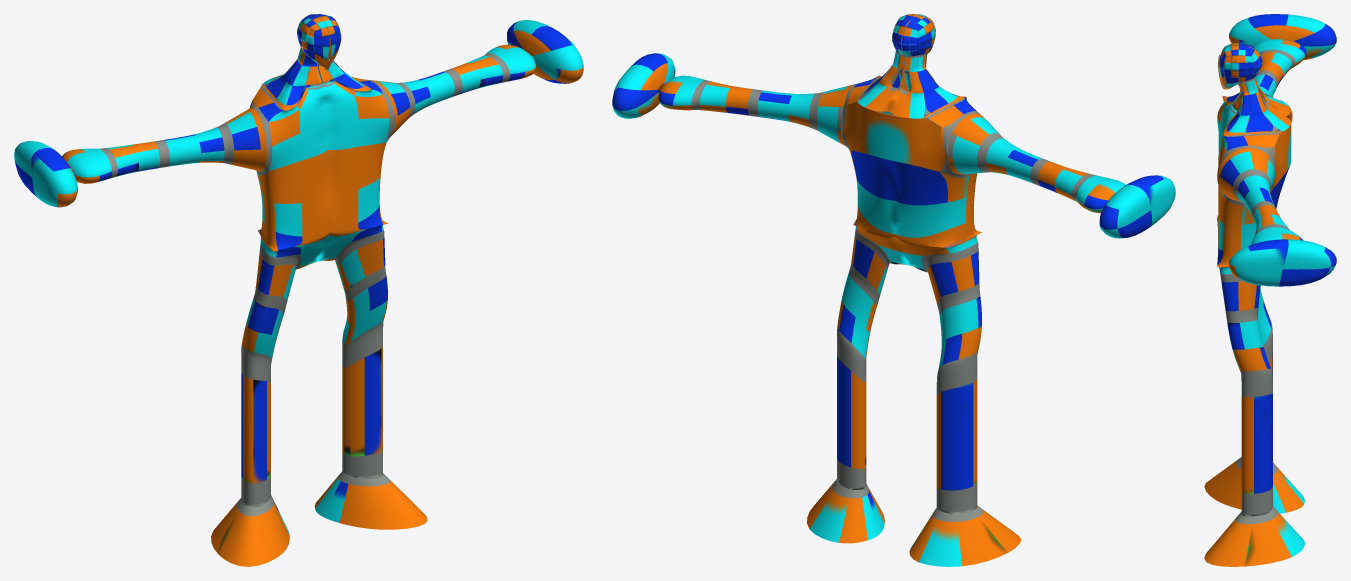
Rendered from albertTestMesh.obj.
The picture shows the model from 3 angles, left to right: view 1: azimuth 30°, elevation 25°; view 2: azimuth 150°, elevation 25°; view 3: azimuth 270°, elevation 25°; orthographic projection. The views are drawn at different scales.
Parts seen in each view (by area): view 1: Cube; view 2: Cube; view 3: Cube.
Part boxes in pixels (x1,y1,x2,y2): Cube: [14, 14, 583, 566]; Cube: [612, 14, 1175, 566]; Cube: [1204, 14, 1336, 566].
Bounding box in the file's own units: 44.27 × 41.14 × 10.33.
